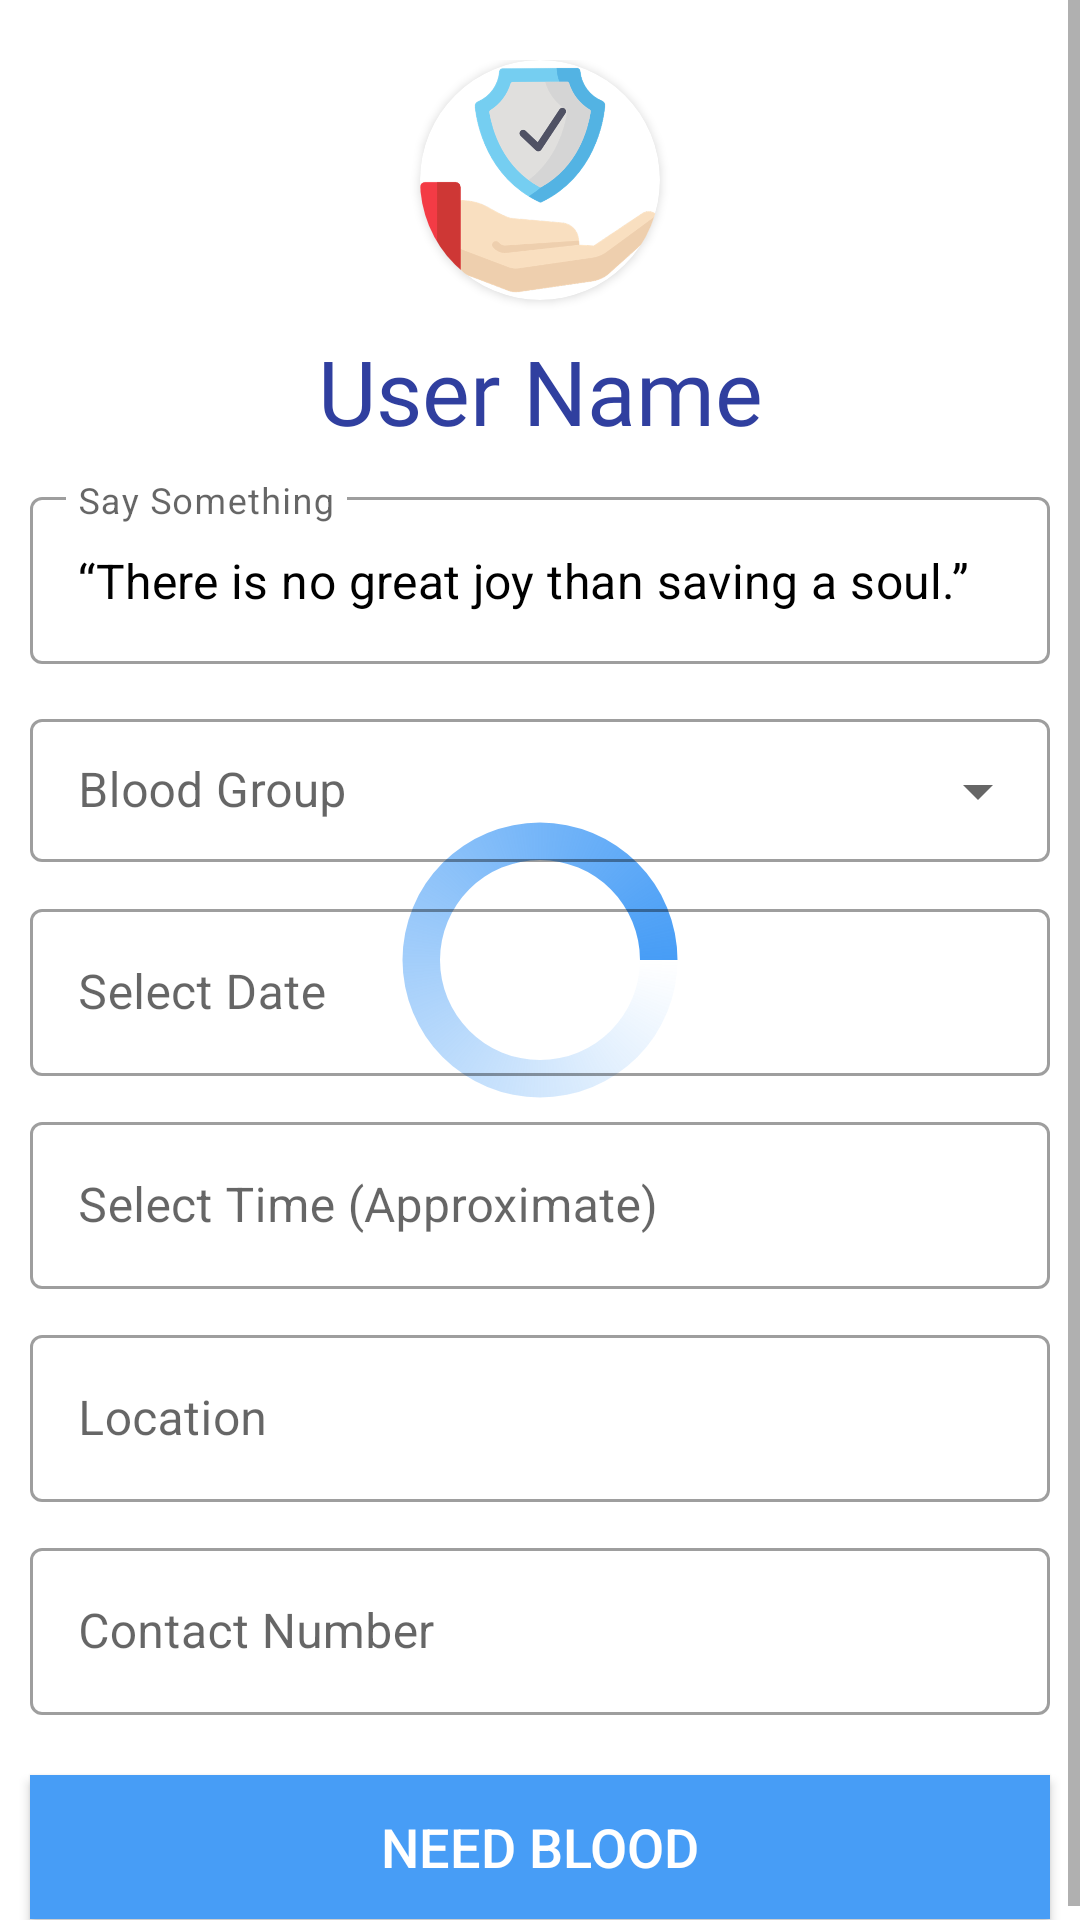

Icon bounding boxes for this 1080w x 1920h phone screenshot, format (x1=x1, y1=y1, x2=x2, y2=y2):
shield: (x1=420, y1=68, x2=655, y2=292)
